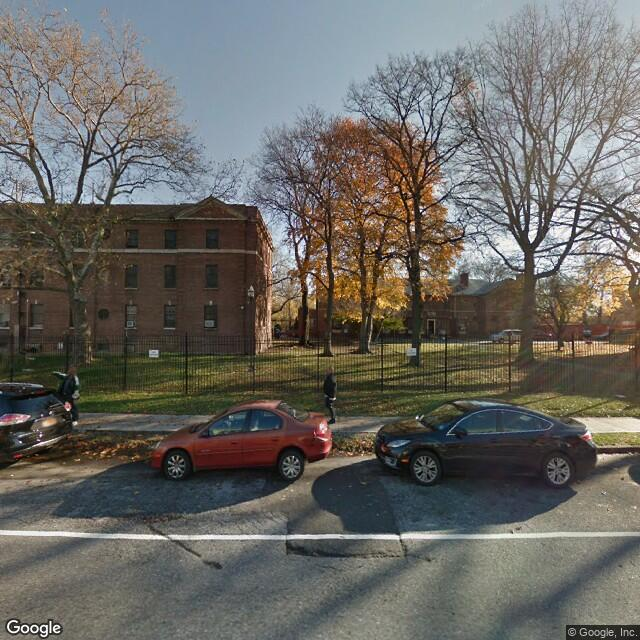litter: (76, 433, 155, 467), (336, 436, 371, 465)
